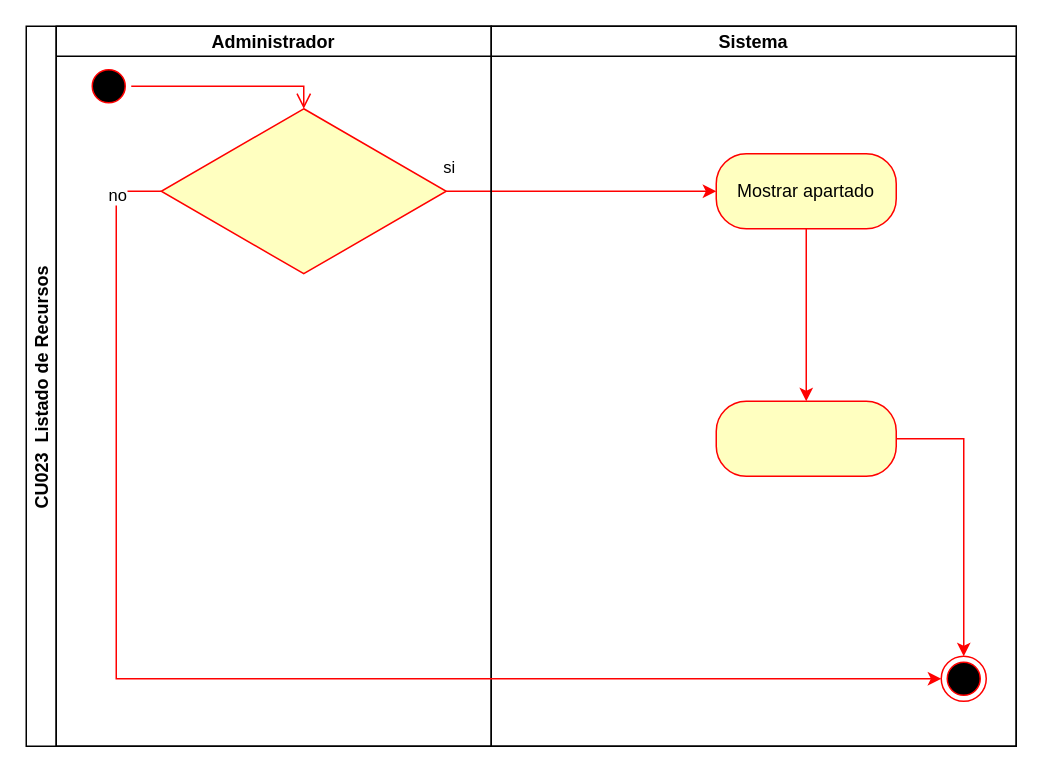
The diagram is 1043 pixels wide and 773 high, and some of its shapes have lost their labels. Here are the shapes that lost their labels. From the top down, the centre of each, then its label:
point (303, 190): Pulsa el apartado "Recursos"
point (805, 438): Mostrar listado de recursos
